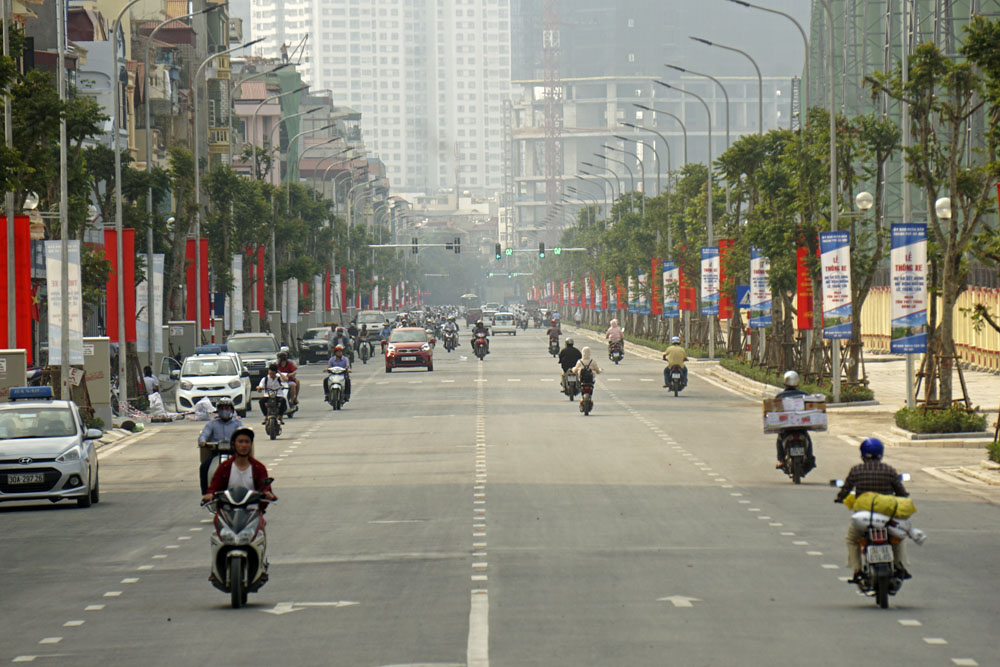bien_so: (865, 541, 897, 565)
